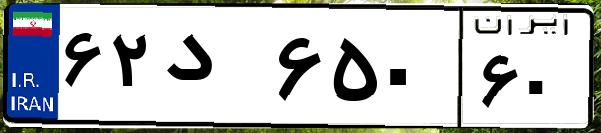0: (385, 28, 445, 110), (525, 38, 570, 115)
2: (110, 28, 158, 98)
5: (330, 28, 385, 110)
6: (270, 28, 330, 110), (57, 26, 110, 100), (475, 38, 525, 113)
د: (158, 20, 270, 120)
